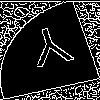Y: (25, 24, 78, 77)
